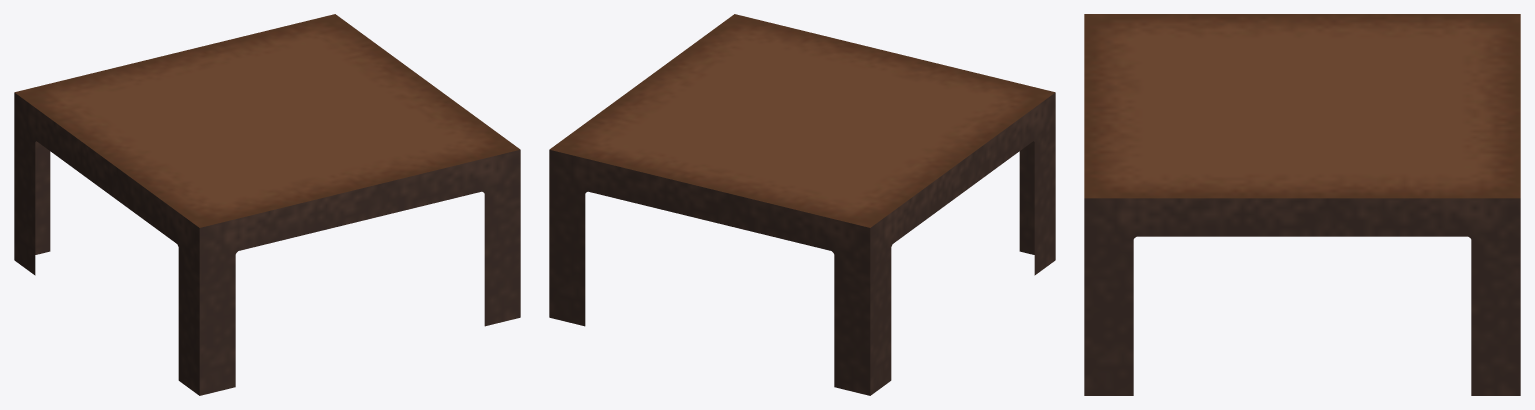
File: stool.dae
3 renders of one model, left to right at view 1: azimuth 30°, elevation 25°; view 2: azimuth 150°, elevation 25°; view 3: azimuth 270°, elevation 25°, orthographic. The views are drawn at different scales.
Parts seen in each view (by area): view 1: Cube; view 2: Cube; view 3: Cube.
Part boxes in pixels (x1,y1,x2,y2): Cube: (14,14,520,395); Cube: (549,14,1055,395); Cube: (1084,14,1520,395).
Size of the model in its own units: 1.94 by 1.94 by 0.9688.
1 material, 1 textured.
